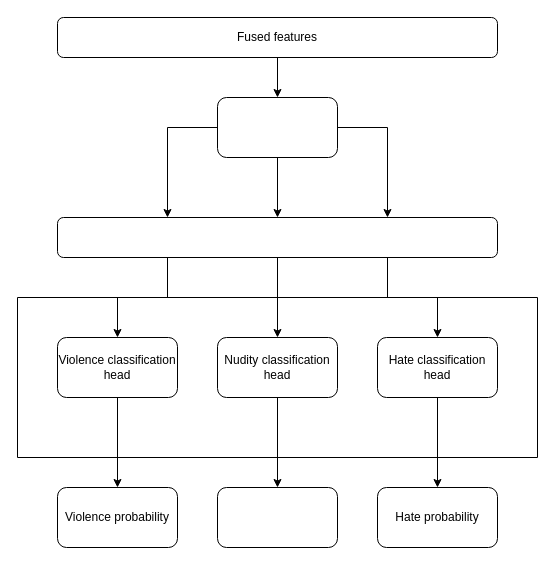
This 555x565 diagram has some shape labels left out. Here are the shapes that lost their labels. From the top down, the centre of each, then its label:
At [277,127]: "Shared layers".
At [277,237]: "Transformed features".
At [277,517]: "Nudity probability".
